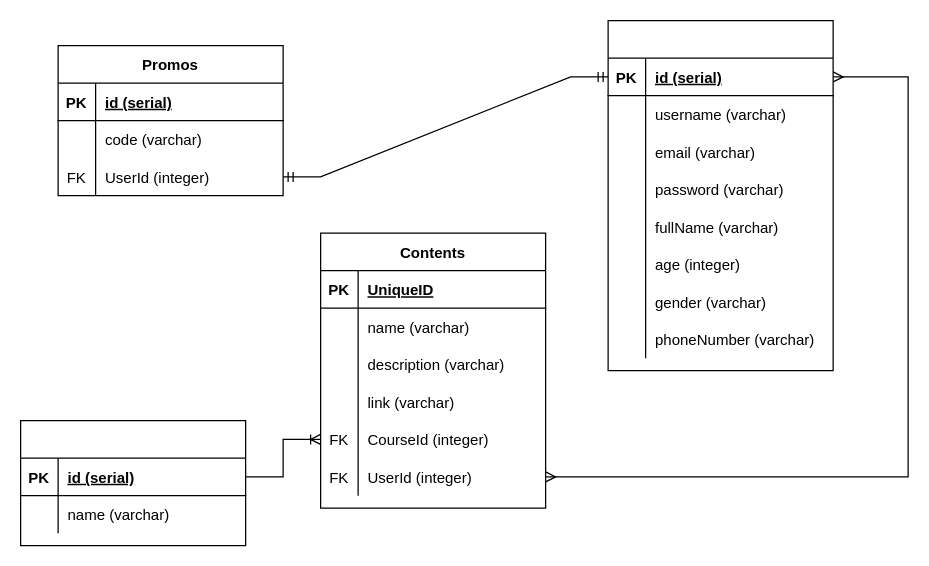
This 929x566 diagram has some shape labels left out. The shapes that lost their labels are listed below. From the top down, each one's box as (x1, y1, x2, y2) in pixels, then its label:
(607, 19, 833, 371): Users
(19, 419, 246, 546): Courses
